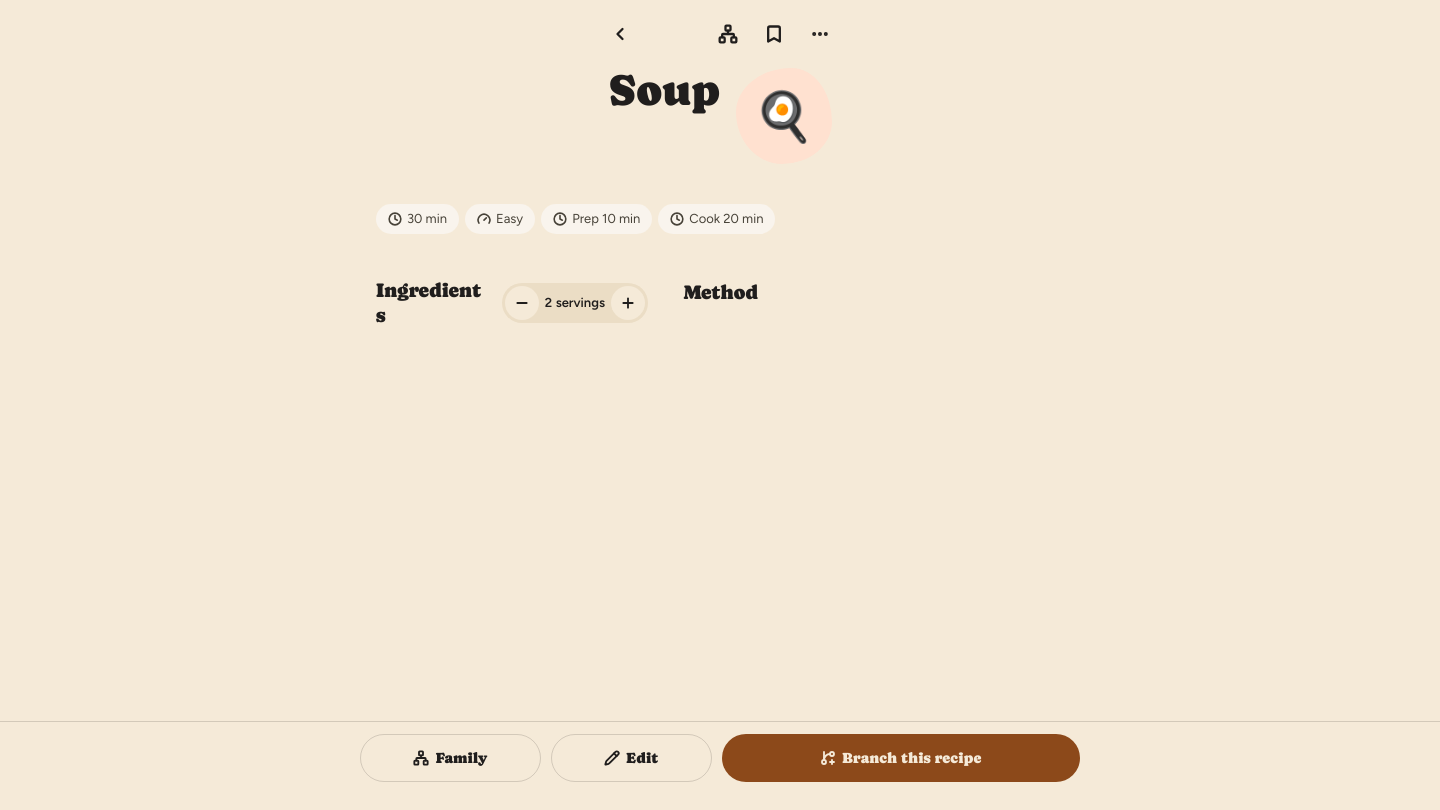
Test: RecipeDetailPage Share › opens the sign-up dialog for a anonymous user on an unpublished recipe
Click the button named "More options" at (820, 34), box [798,12,842,56]
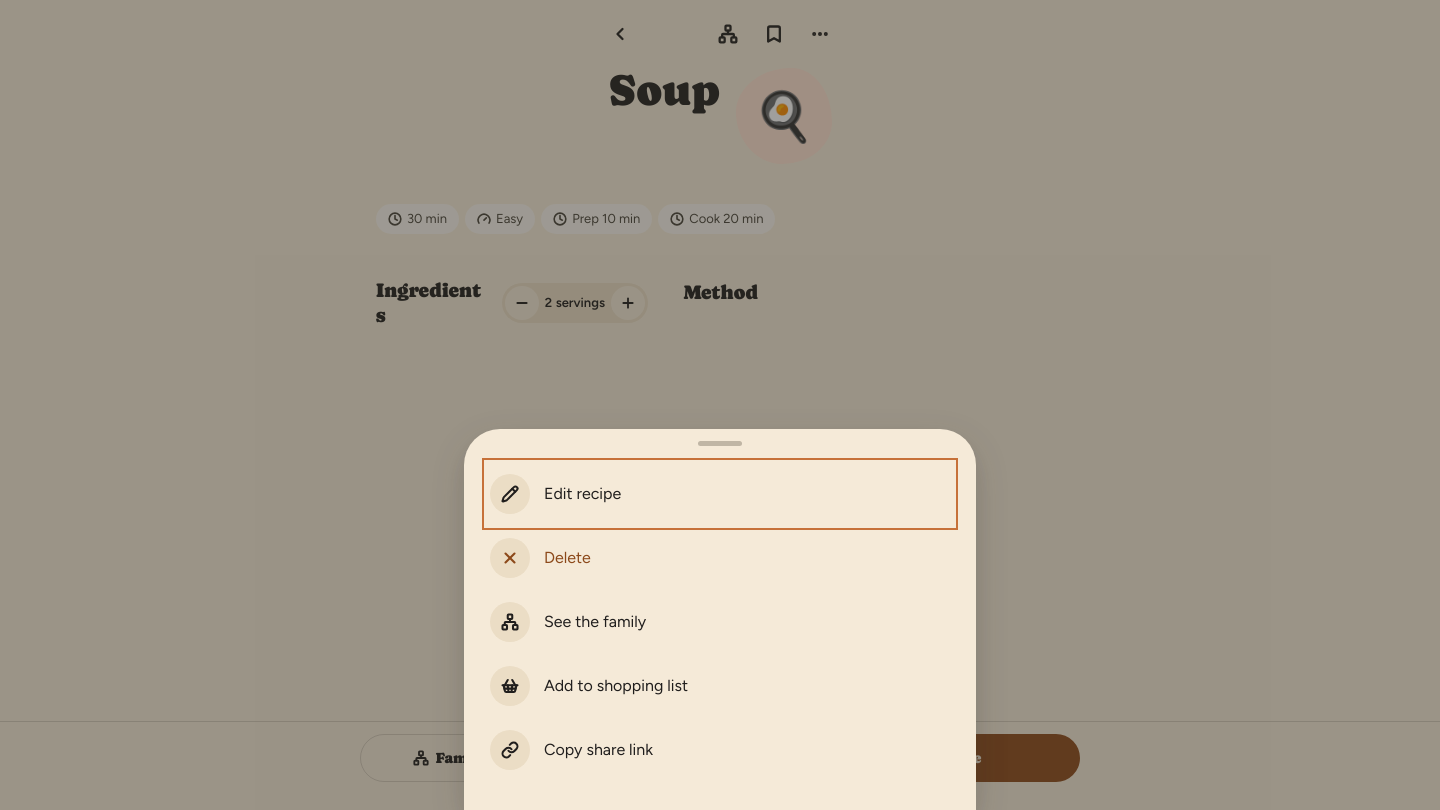
Click the button "Copy share link" at (510, 750), box [486,718,954,782]
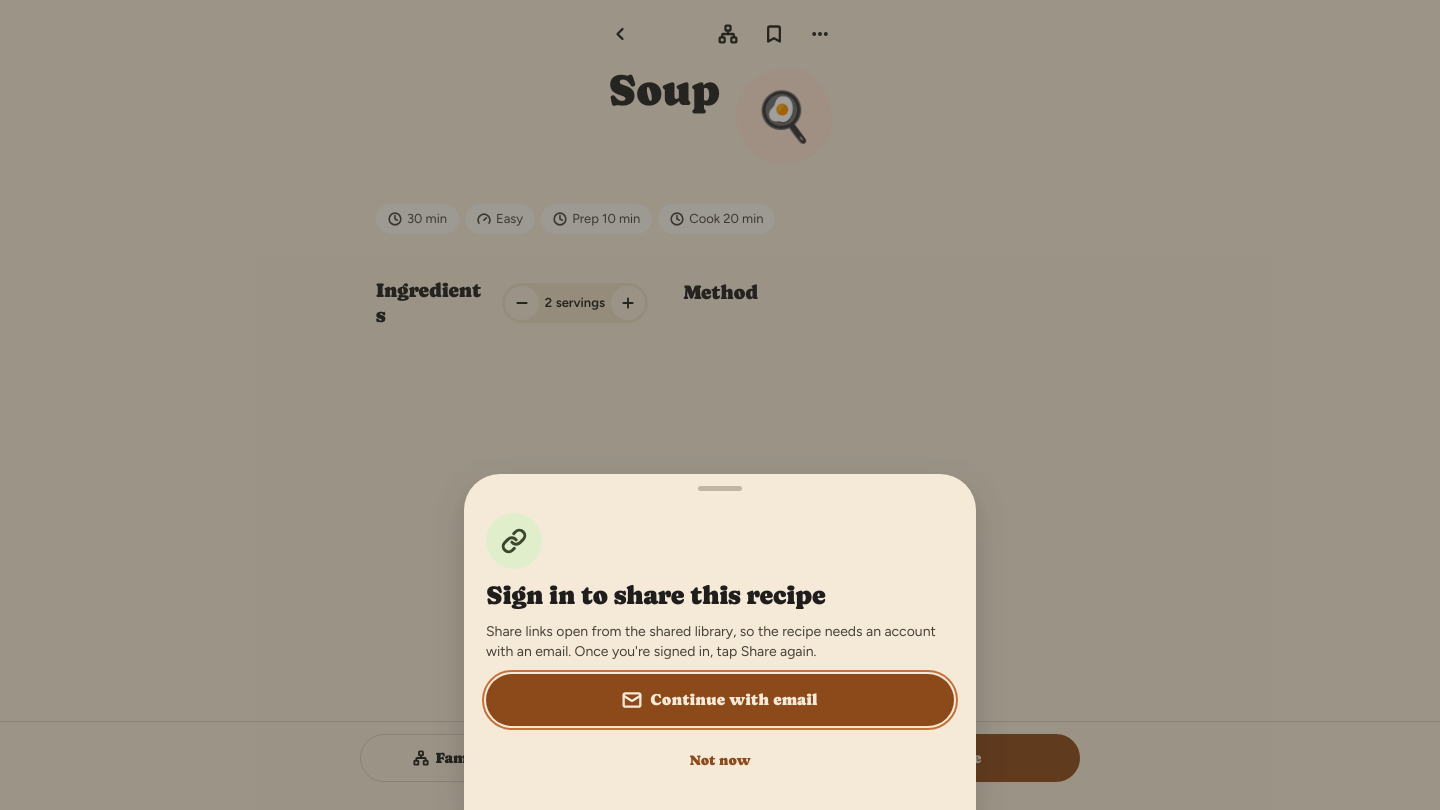
Check: the heading "Sign in to share this recipe" is shown, box [486,580,825,610]
